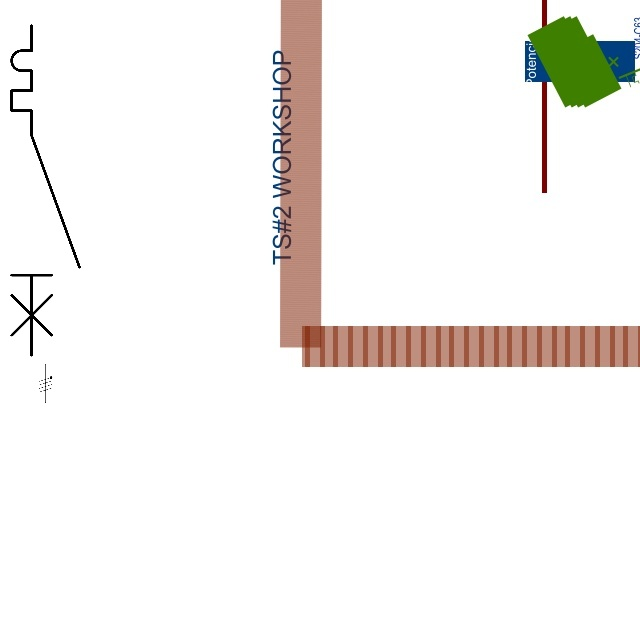interruptor_termomagnetico: (3, 17, 88, 363)
